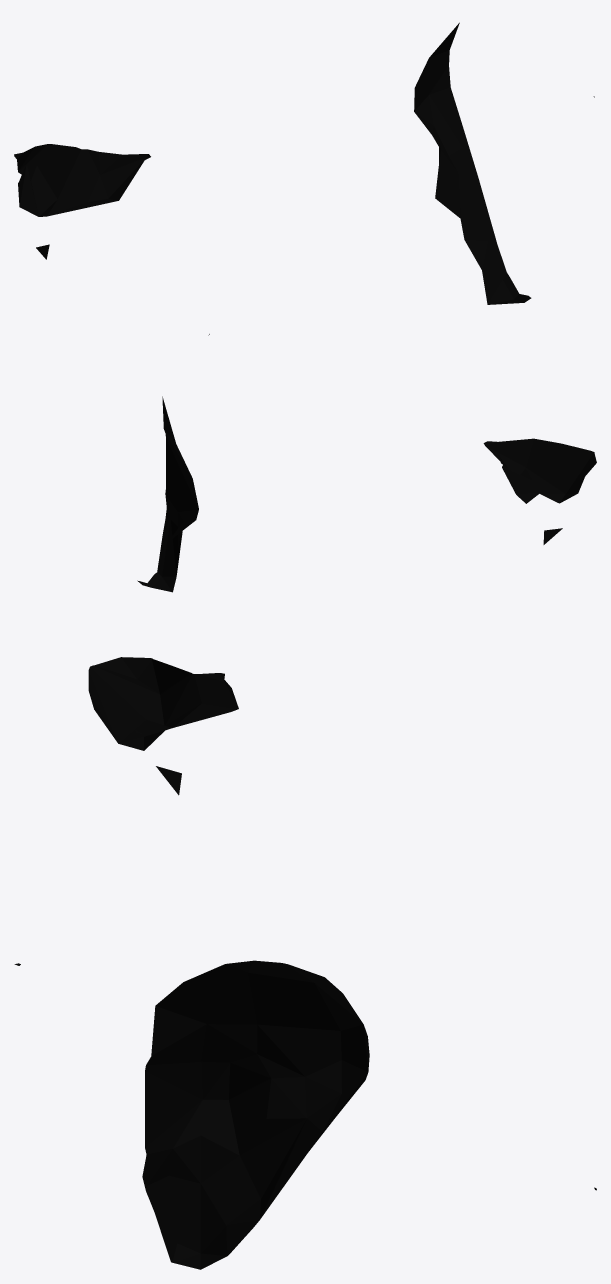
3 views of the same model, one above another, from view 1: azimuth 30°, elevation 25°; view 2: azimuth 150°, elevation 25°; view 3: azimuth 270°, elevation 25° (orthographic). The views are drawn at different scales.
Bounding box in the file's own units: 1.99 × 0.9328 × 1.6.
Materials: 1 (1 with a texture image).
